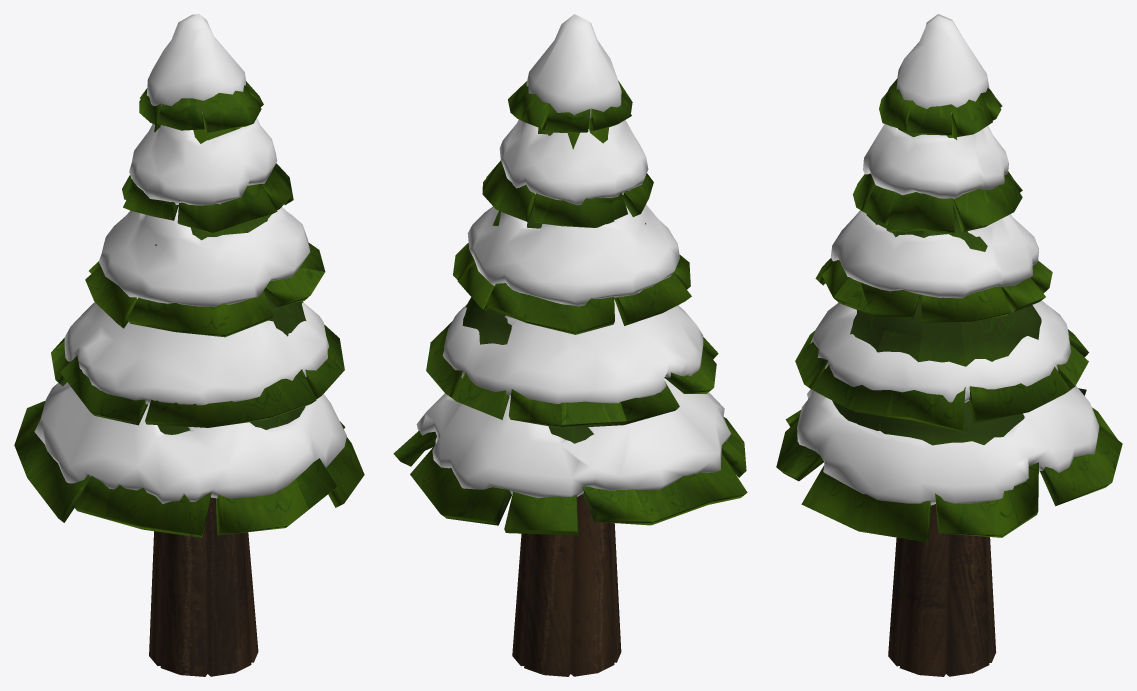
The model's file is Tree.fbx.
The picture shows the model from 3 angles, left to right: view 1: azimuth 30°, elevation 25°; view 2: azimuth 150°, elevation 25°; view 3: azimuth 270°, elevation 25°; orthographic projection.
Visible parts, largest first — view 1: Circle_tree1_0, SnowBall.001, SnowBall.002, Cylinder.002, SnowBall.003, SnowBall.004, SnowBall.005; view 2: Circle_tree1_0, SnowBall.001, SnowBall.002, Cylinder.002, SnowBall.003, SnowBall.004, SnowBall.005; view 3: Circle_tree1_0, SnowBall.001, Cylinder.002, SnowBall.003, SnowBall.002, SnowBall.004, SnowBall.005.
Boxes of the visible parts, left/top/right/bottom form: Circle_tree1_0: left=14, top=81, right=364, bottom=537; SnowBall.001: left=34, top=382, right=346, bottom=503; SnowBall.002: left=64, top=302, right=328, bottom=405; Cylinder.002: left=149, top=497, right=258, bottom=676; SnowBall.003: left=99, top=206, right=310, bottom=306; SnowBall.004: left=129, top=118, right=277, bottom=205; SnowBall.005: left=147, top=14, right=245, bottom=114; Circle_tree1_0: left=393, top=80, right=747, bottom=535; SnowBall.001: left=416, top=378, right=730, bottom=498; SnowBall.002: left=442, top=299, right=703, bottom=404; Cylinder.002: left=512, top=494, right=621, bottom=676; SnowBall.003: left=467, top=204, right=679, bottom=306; SnowBall.004: left=499, top=119, right=648, bottom=205; SnowBall.005: left=526, top=14, right=621, bottom=118; Circle_tree1_0: left=776, top=78, right=1122, bottom=542; SnowBall.001: left=797, top=385, right=1099, bottom=505; Cylinder.002: left=888, top=504, right=996, bottom=676; SnowBall.003: left=831, top=210, right=1038, bottom=298; SnowBall.002: left=810, top=300, right=1071, bottom=402; SnowBall.004: left=863, top=124, right=1008, bottom=198; SnowBall.005: left=896, top=14, right=989, bottom=114.
Size of the model in its own units: 833 by 1683 by 833.
2 materials, 2 textured.
